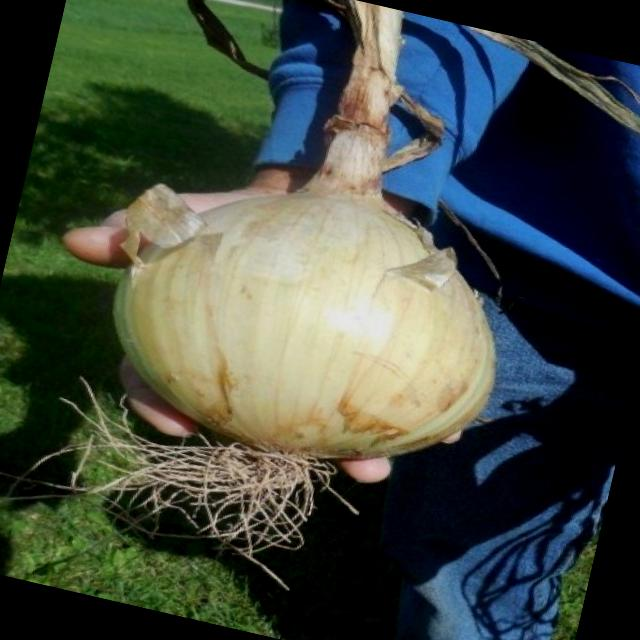onion: (40, 70, 573, 636)
